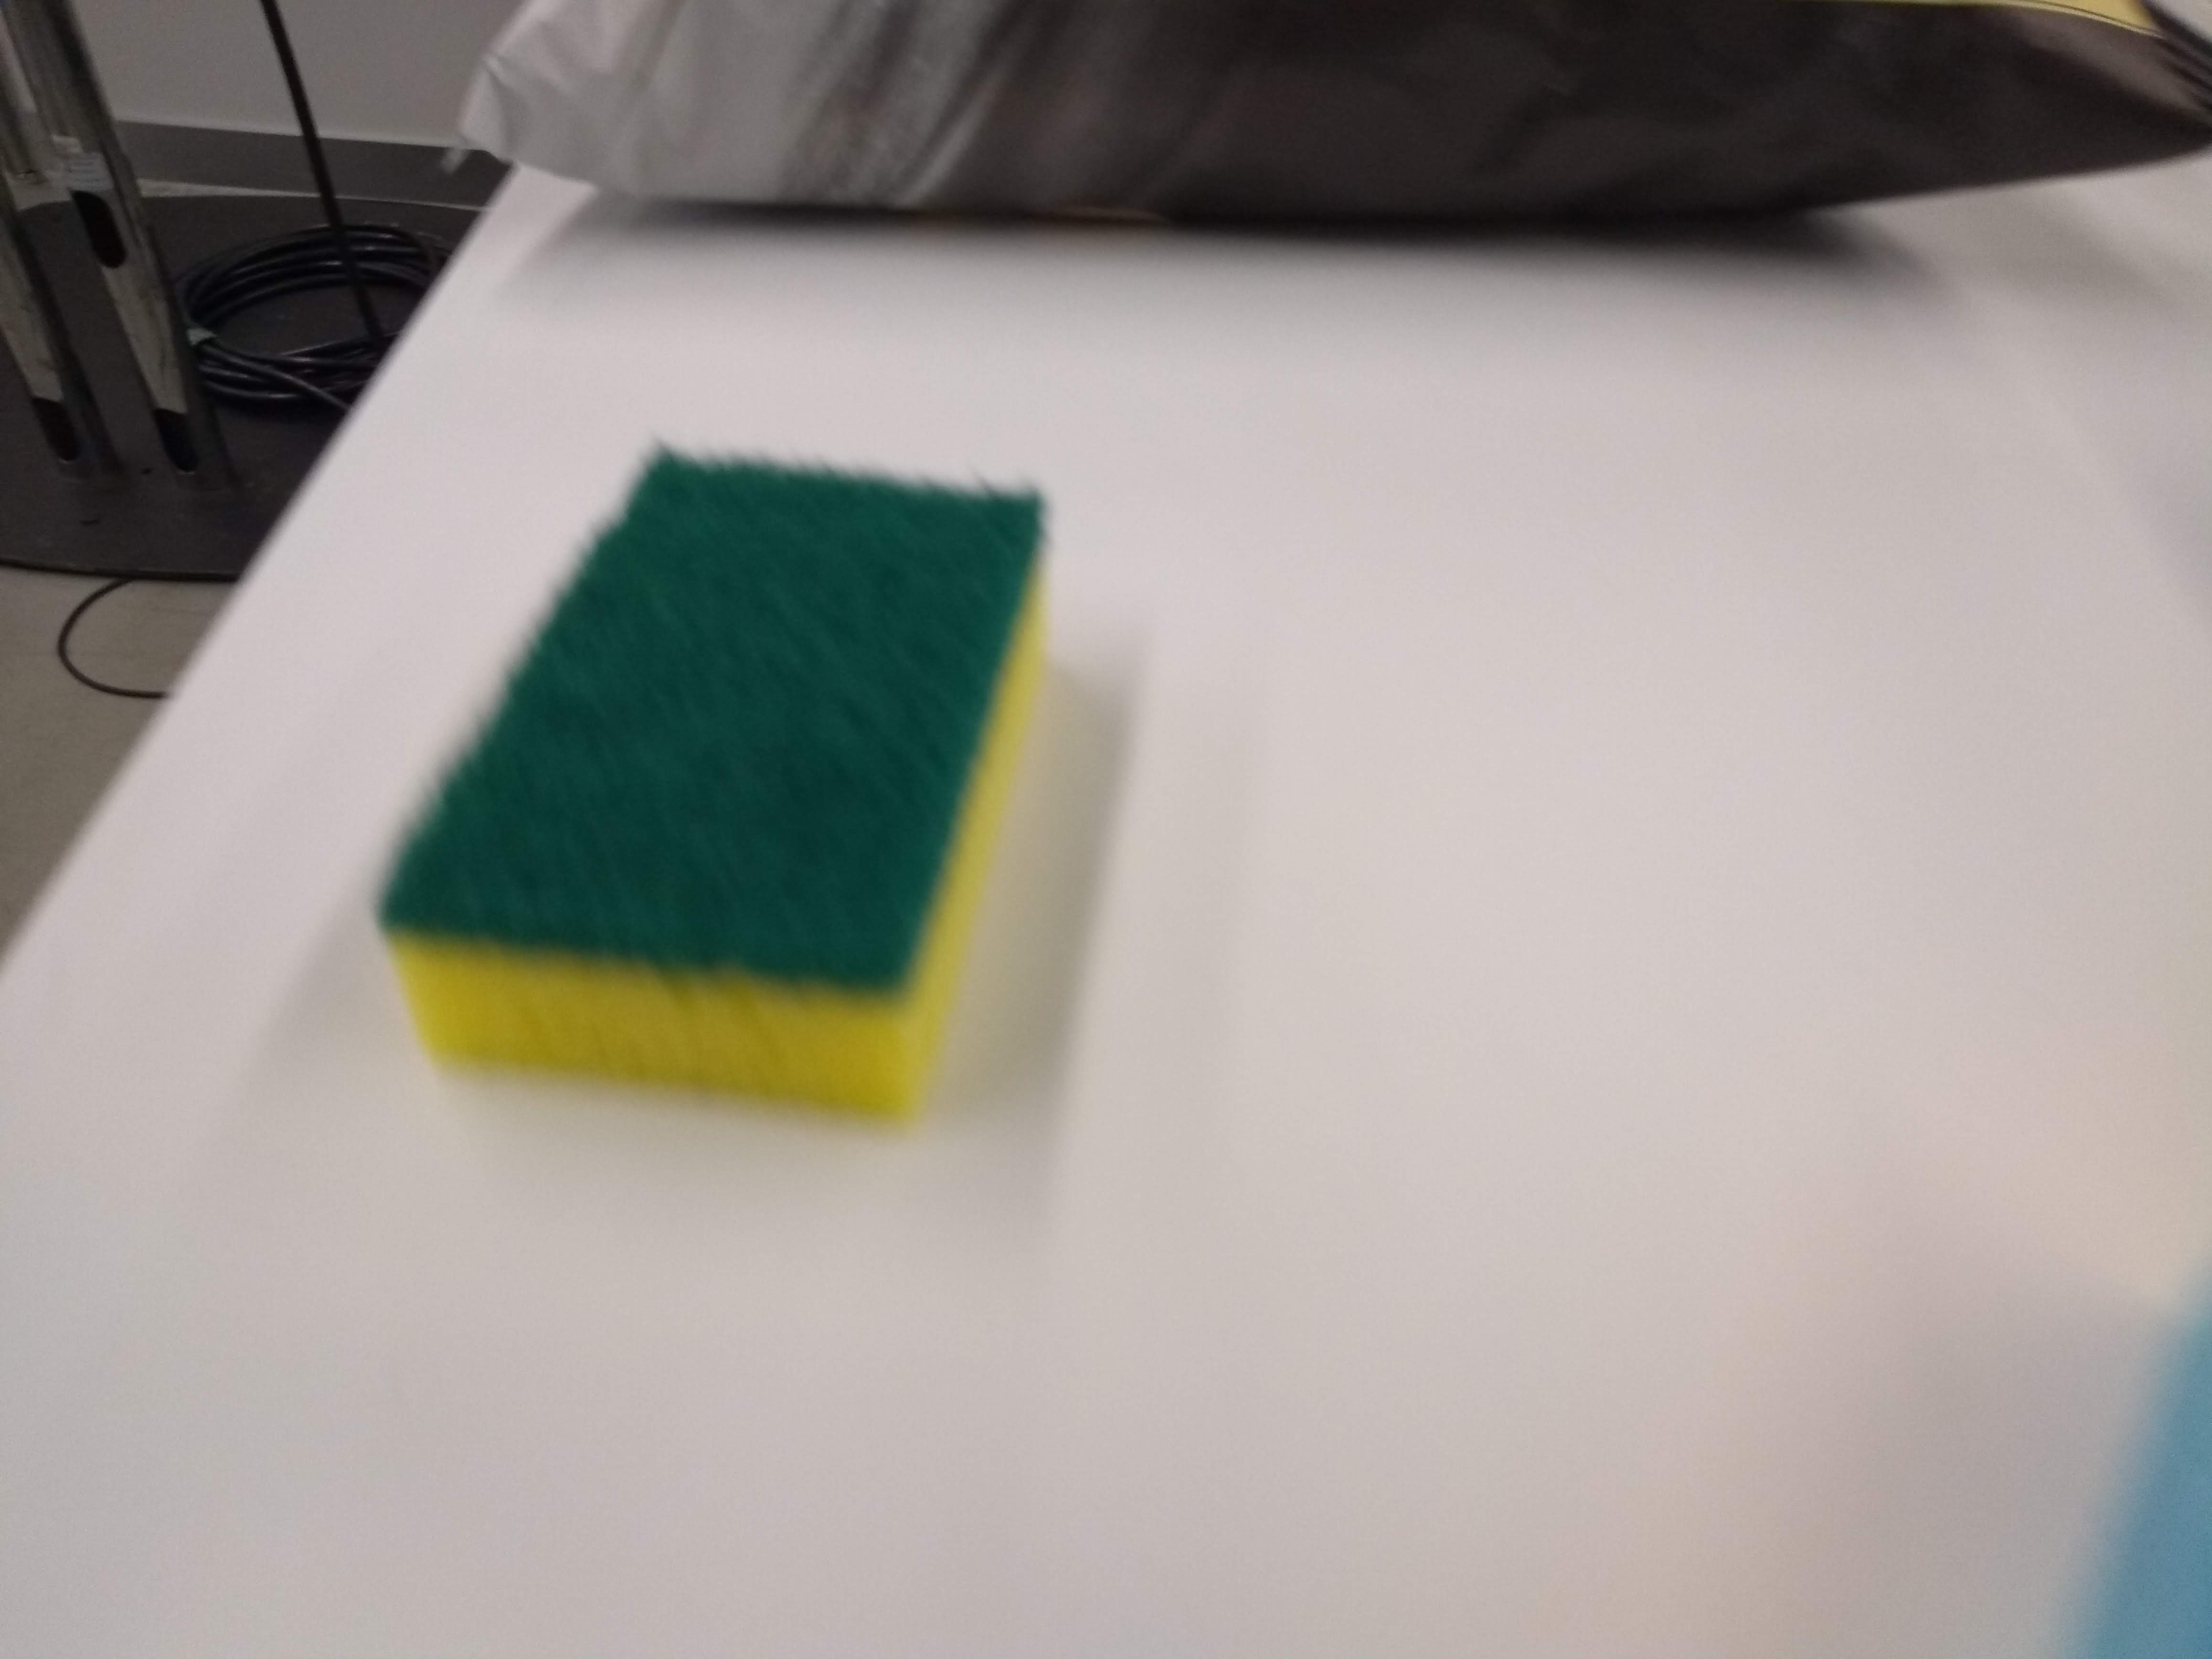scrubby: (369, 427, 1062, 1136)
